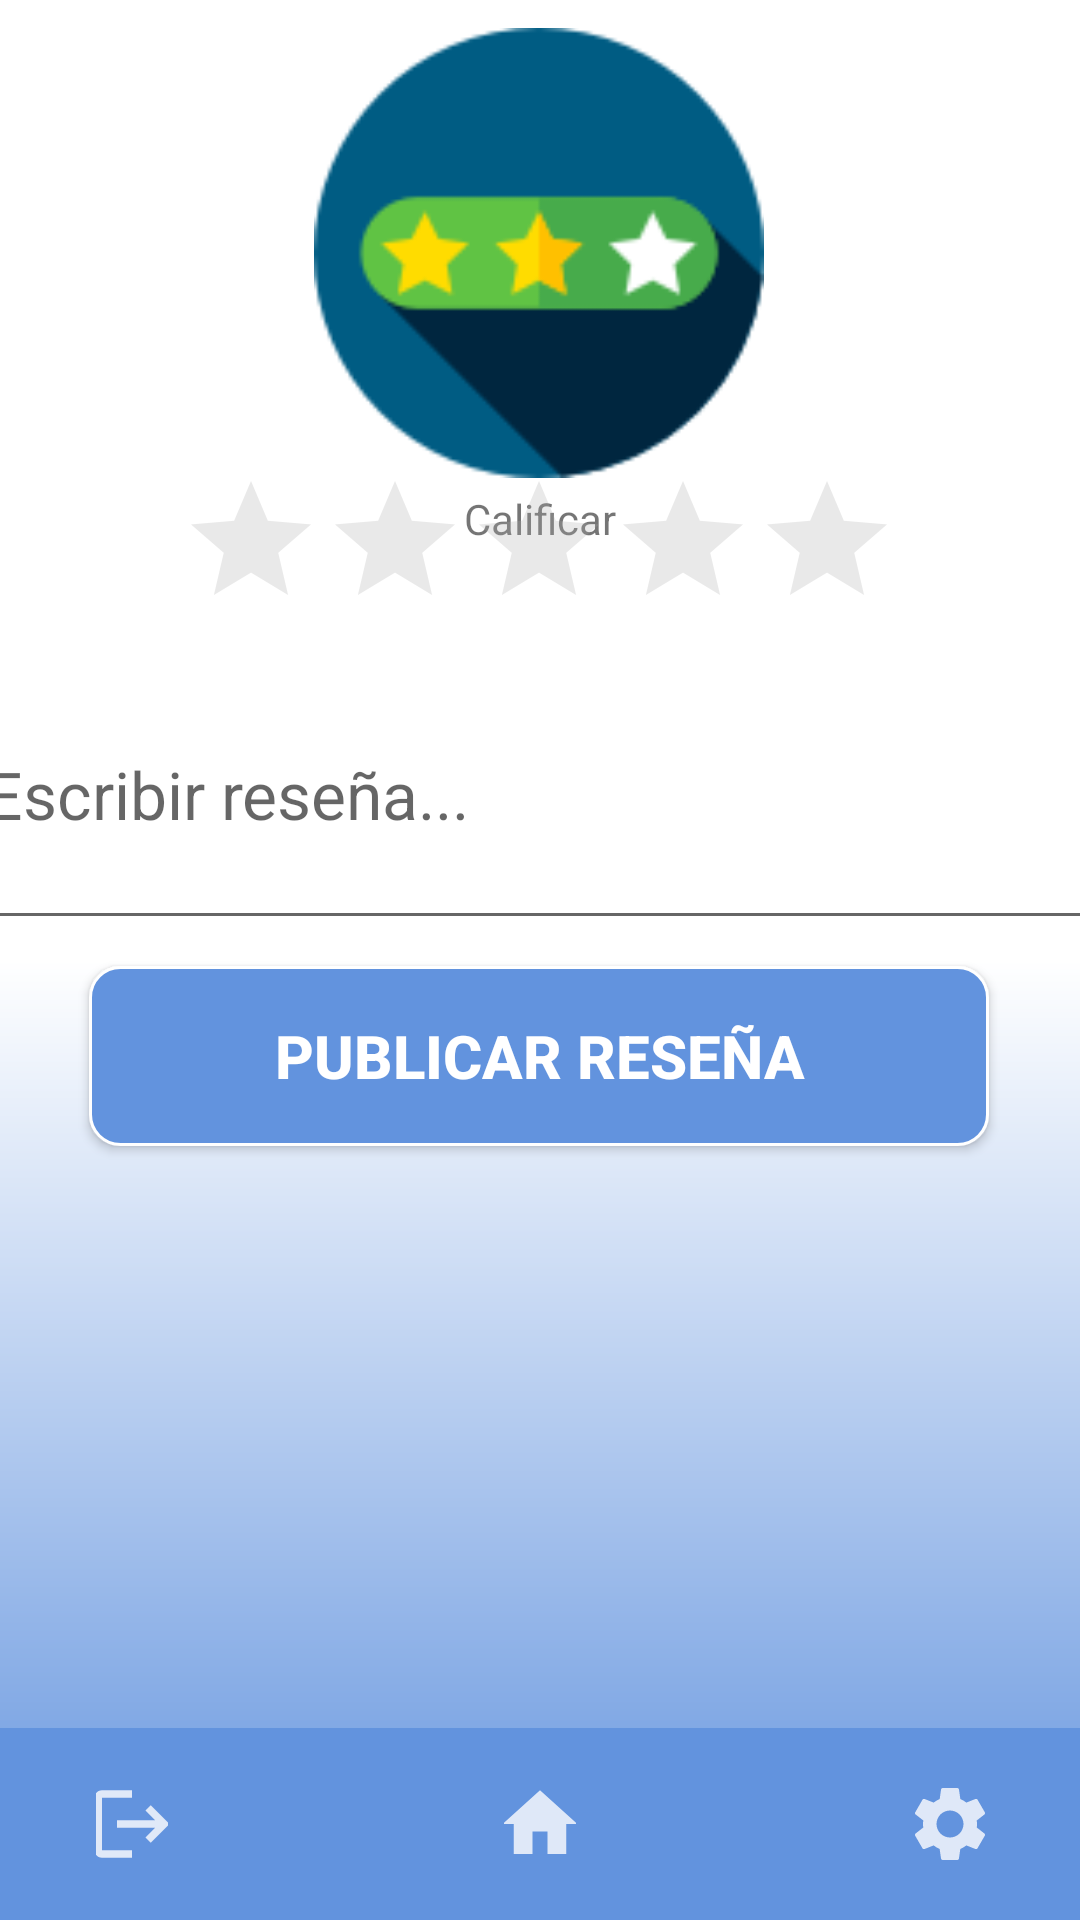

Icons on this 1080px x 1920px Android screen, each with its box as detection(x1, y1, x2, y2):
home: detection(504, 1790, 576, 1854)
settings: detection(915, 1788, 985, 1860)
